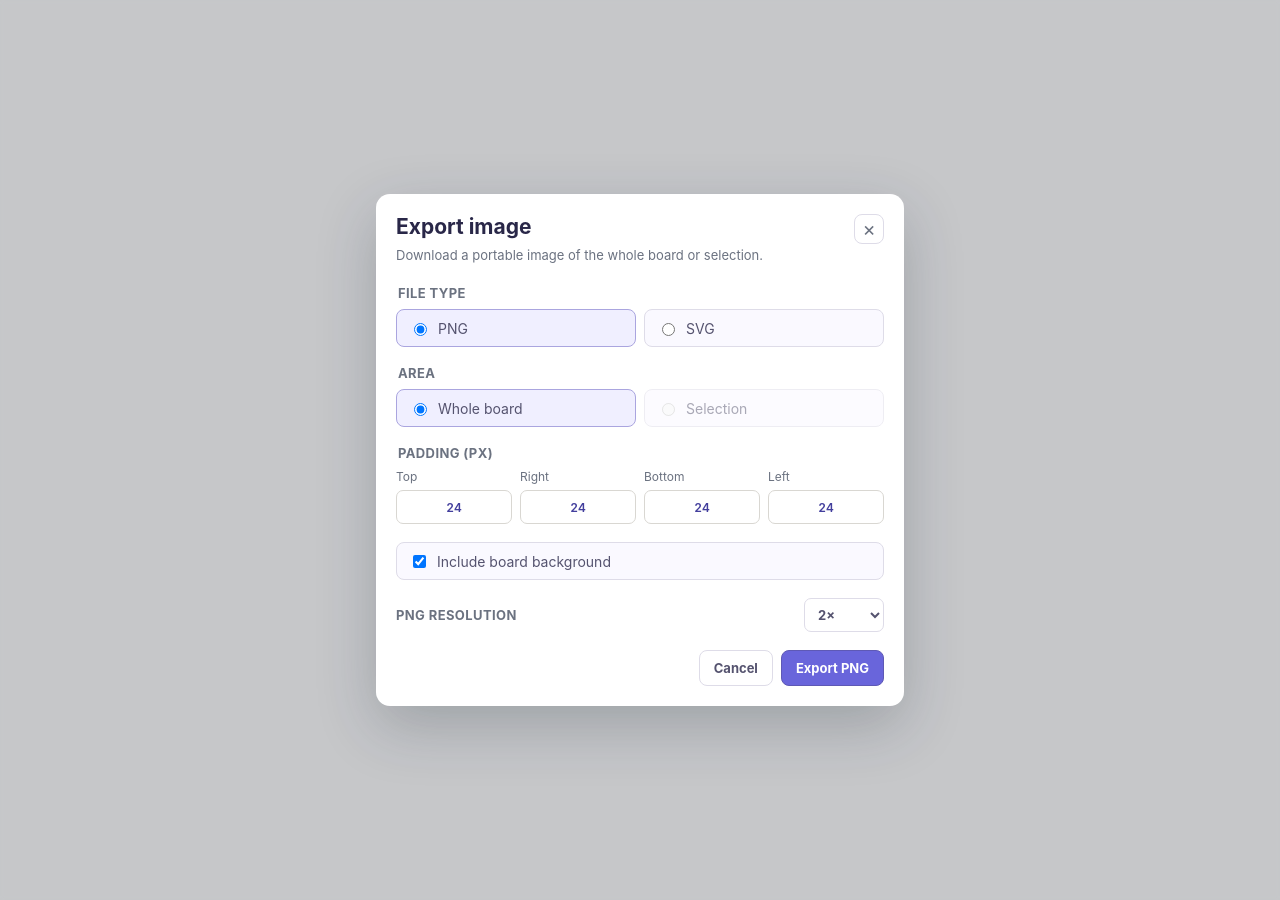
Test: ExportDialog › explains the disabled Selection option on hover
Hover over the label "Selection" at (764, 408), box [644,389,884,427]
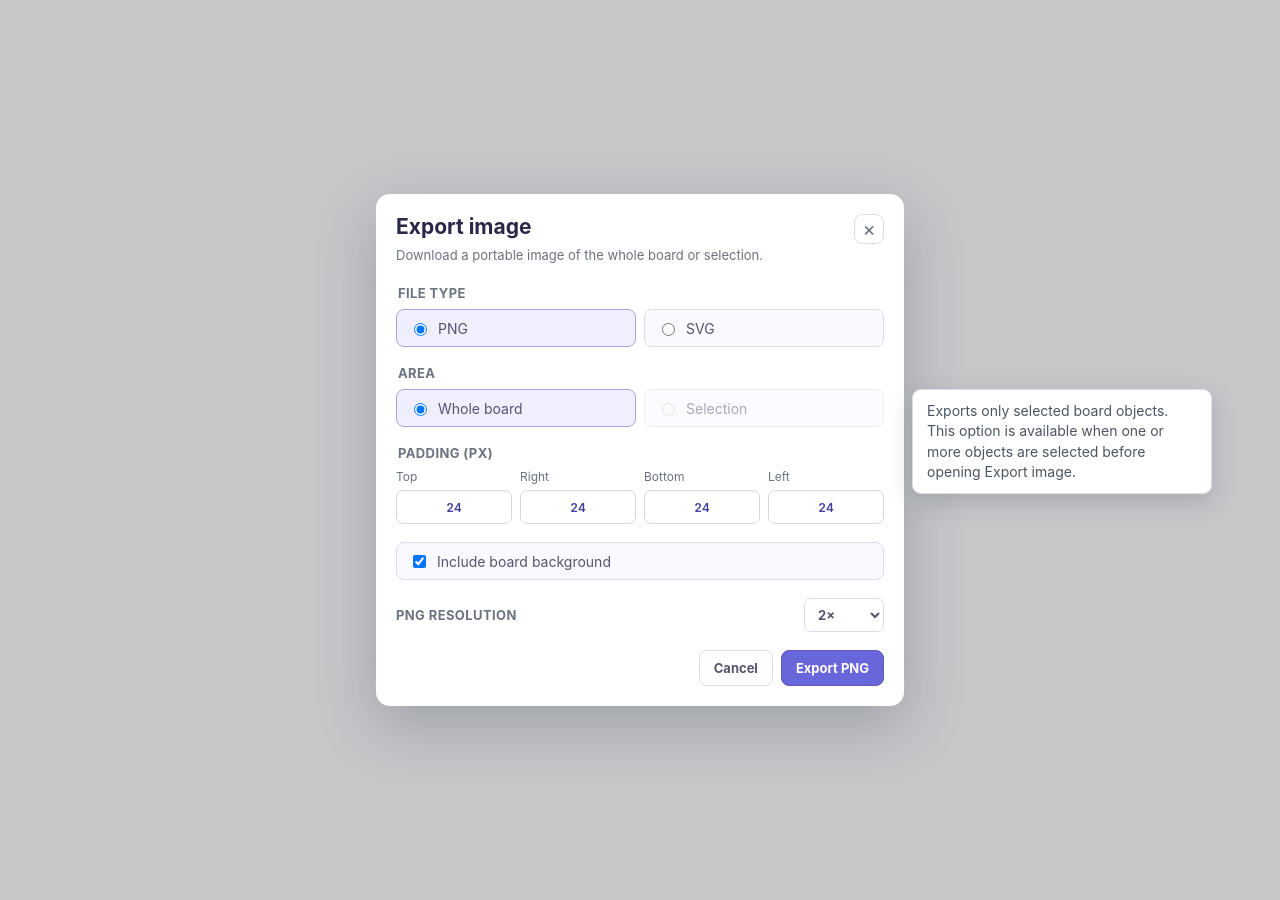
Check: the text with class "export-option-tooltip" shows "Exports only selected board objects. This option is available when one or more objects are selected before opening Export image.", box [927,402,1168,480]
Move the pointer off the label "Selection", box [644,389,884,427]
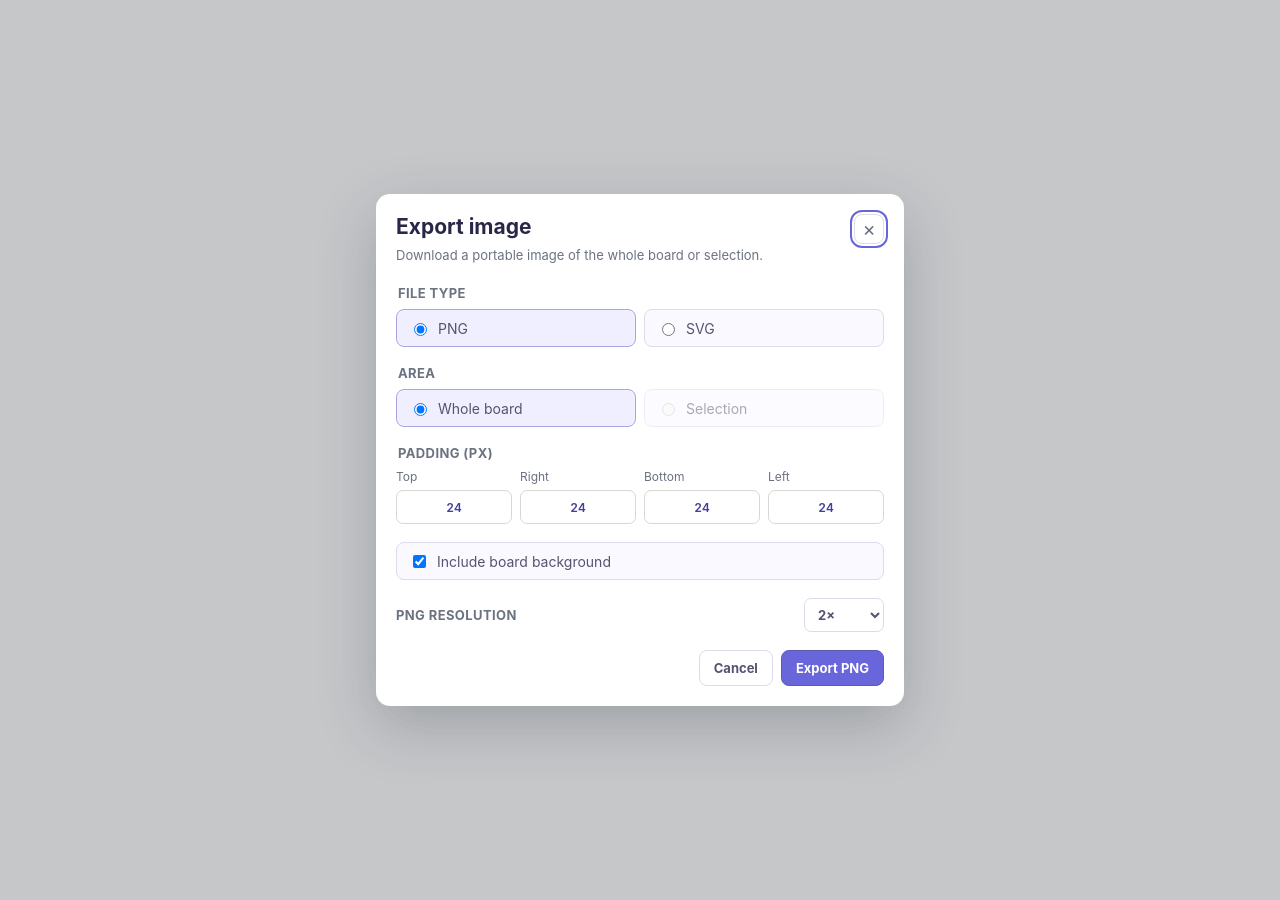
Check: the text with class "export-option-tooltip" is gone
